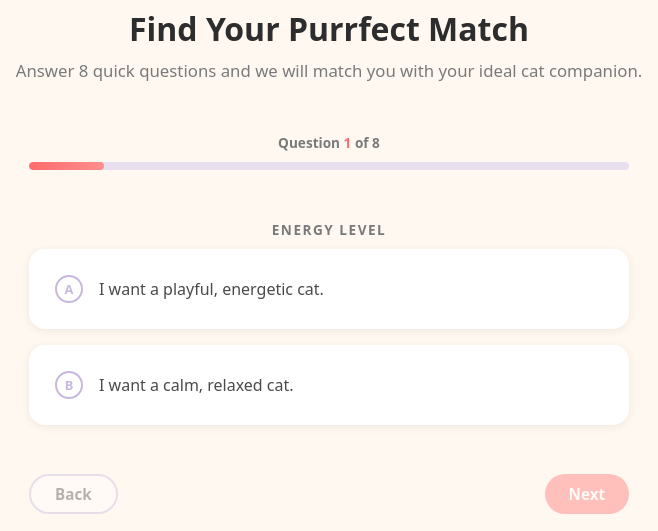
Scenario: QuestionnaireForm › navigates forward to the next question
The image size is (658, 531).
Click the text "I want a playful, energetic cat.".
click(211, 289)  # box [99,278,324,300]
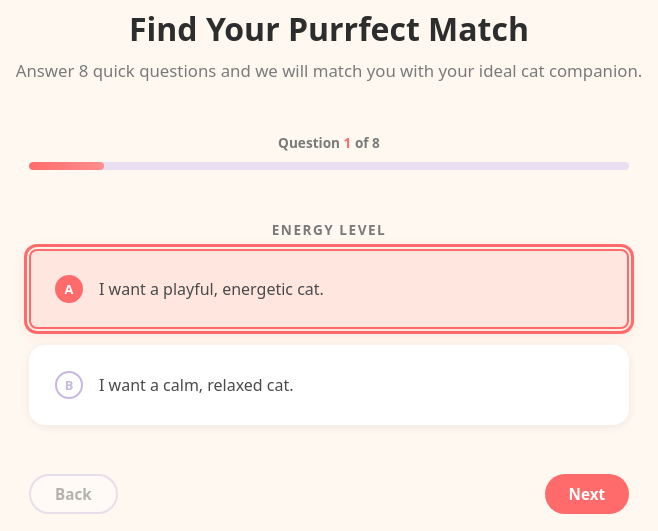
Click the button "Next".
click(587, 494)  # box [545,474,629,514]
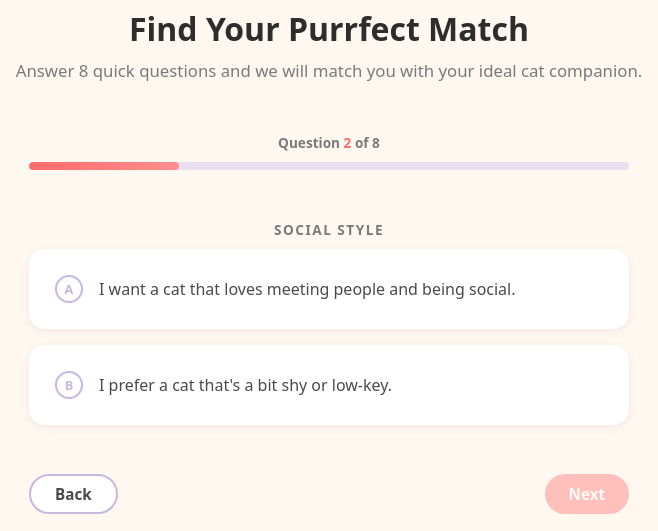
Check: the text "Social Style" is shown, box [274,220,384,239]
